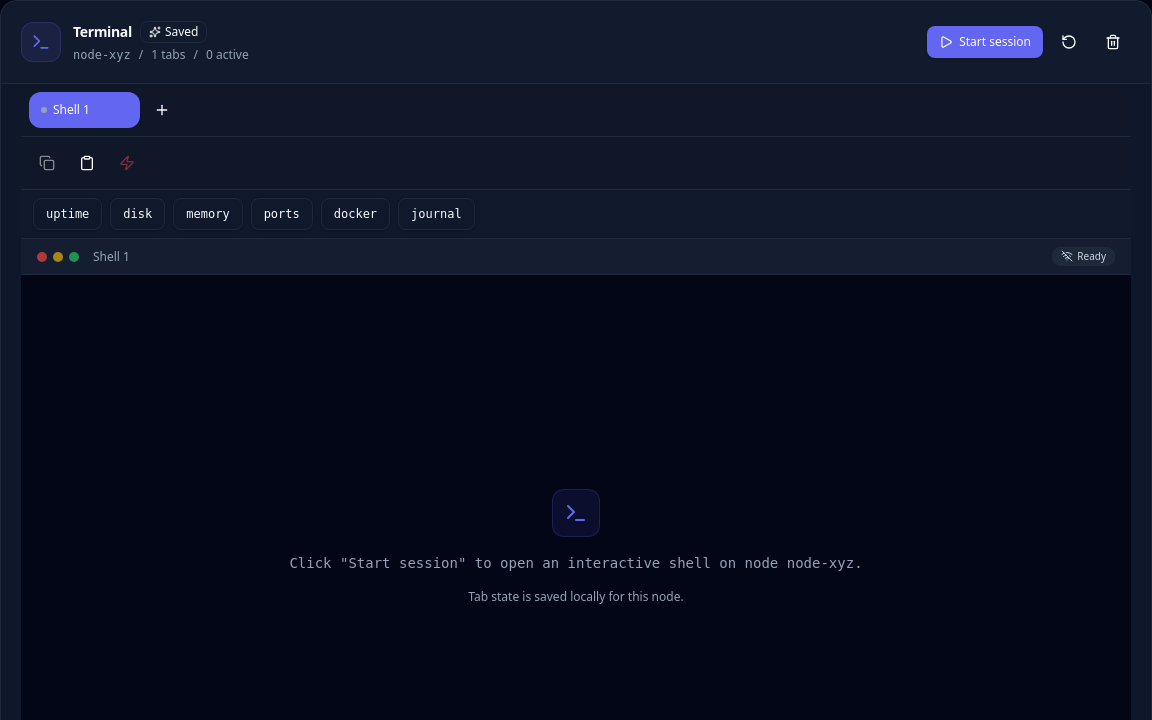
NodeTerminal › shows a connected indicator when session.connected is true
This screenshot has width=1152, height=720.
Click the button "Start session": [985, 42] box [927,26,1043,58]
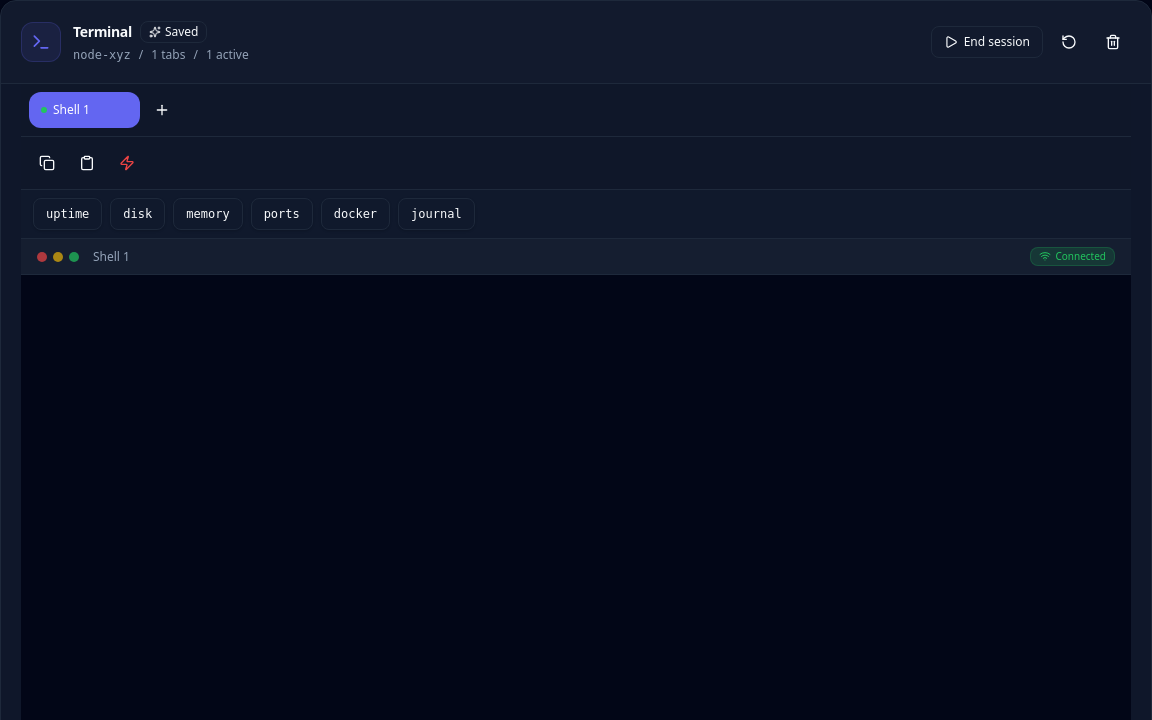
Expected: the text "Connected" is shown, [1030,247,1115,266]
